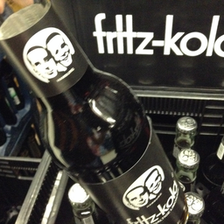soda: (1, 1, 186, 223)
